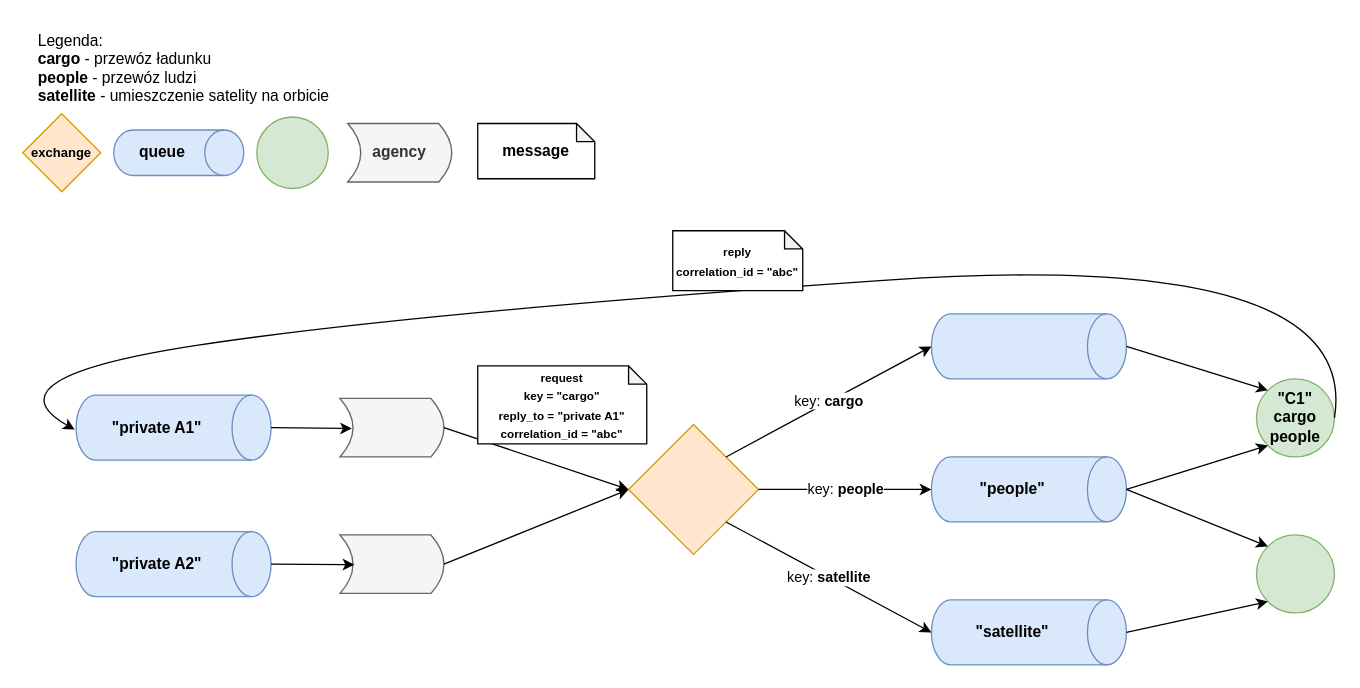
The diagram is 1360 pixels wide and 688 high, and some of its shapes have lost their labels. Each missing label, with the centre of its shape:
"A1": the point at 391,427
"A2": the point at 391,563
"C2" people satellite: the point at 1294,573
"cargo": the point at 1028,346
"exchane" type: direct: the point at 693,488
carrier: the point at 291,152
